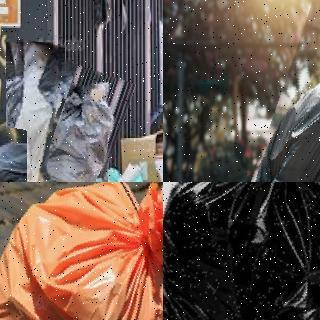Garbage: (0, 182, 163, 320), (163, 182, 320, 320), (27, 63, 125, 182), (257, 0, 320, 182), (0, 40, 59, 182), (0, 131, 26, 182)
